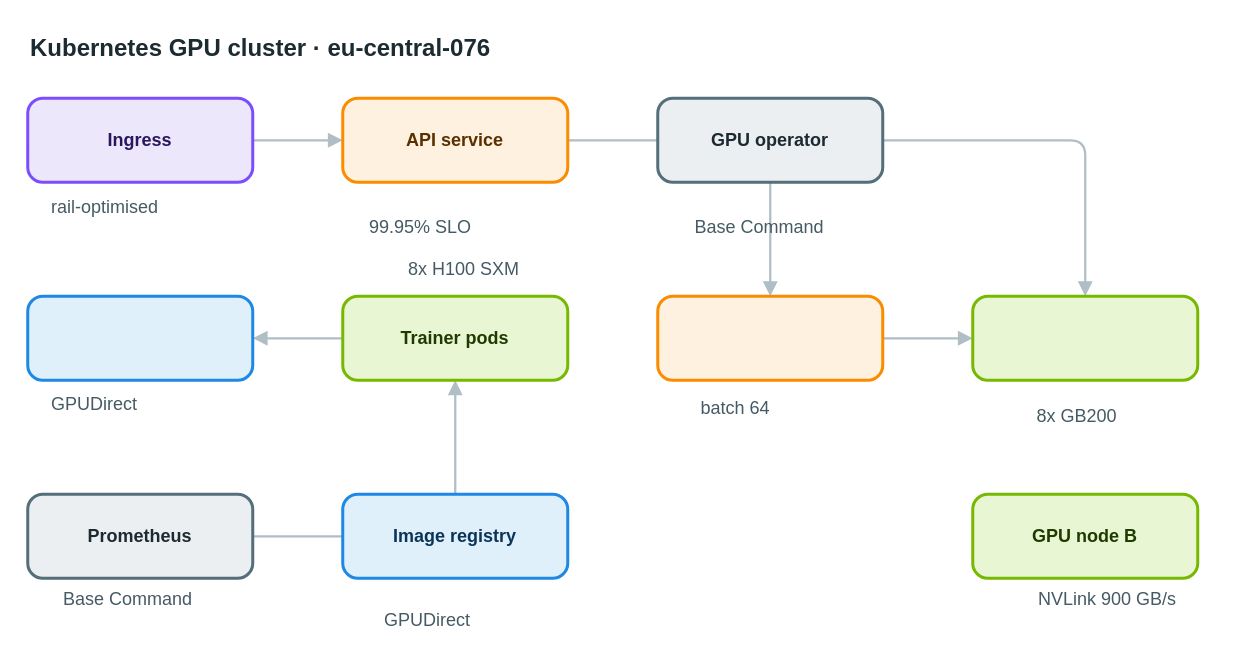
This 1239x657 diagram has some shape labels left out. The centre of each missing label's shape, as x and y in pixels:
"GPU node A" goes at [1084,337].
"Inference pods" goes at [770,337].
"Volumes" goes at [140,337].
